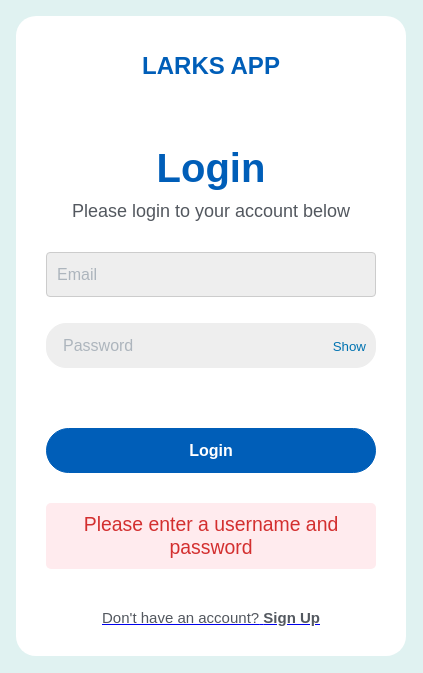
Test: SignIn › displays server error message when server returns an error
Type "test@example.com" into the field with placeholder "Email" at (211, 274), box [46,252,376,297]
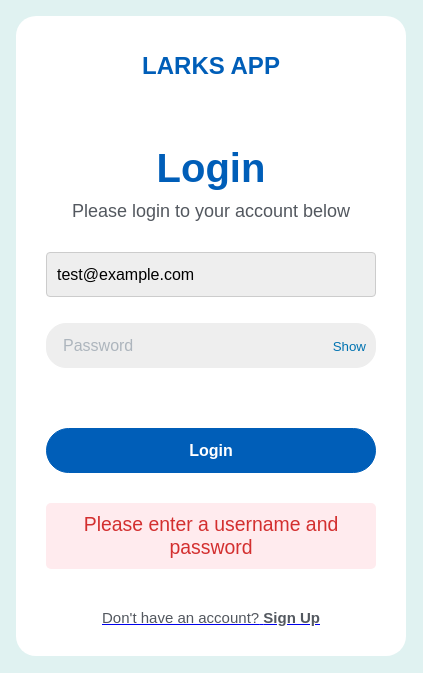
Type "password123" into the password field with placeholder "Password" at (211, 346), box [46,323,376,368]
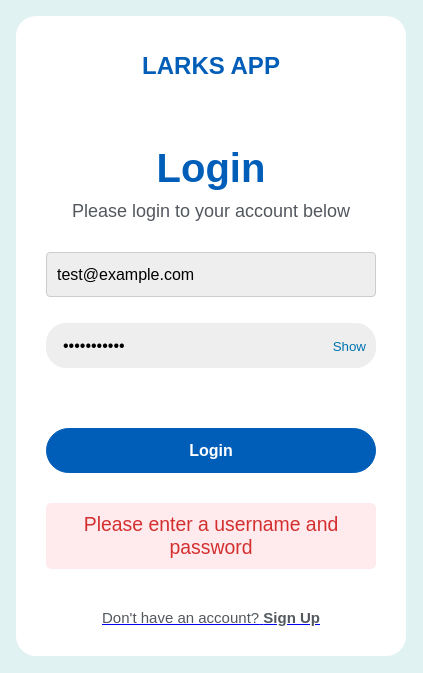
Click the button "Login" at (211, 450), box [46,428,376,473]
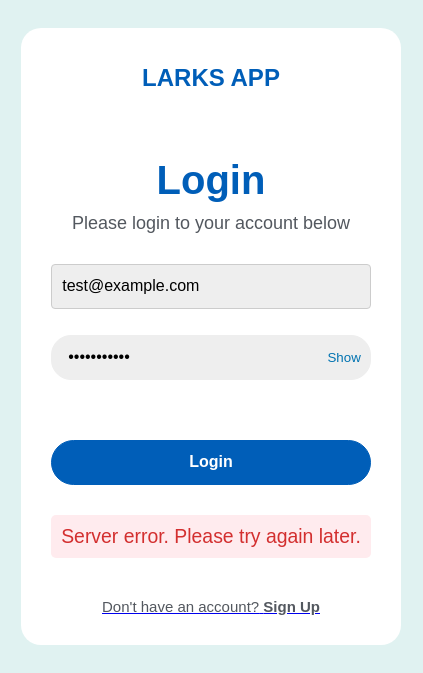
expect the text "Server error. Please try again later." is shown: met, box [51,514,371,558]
